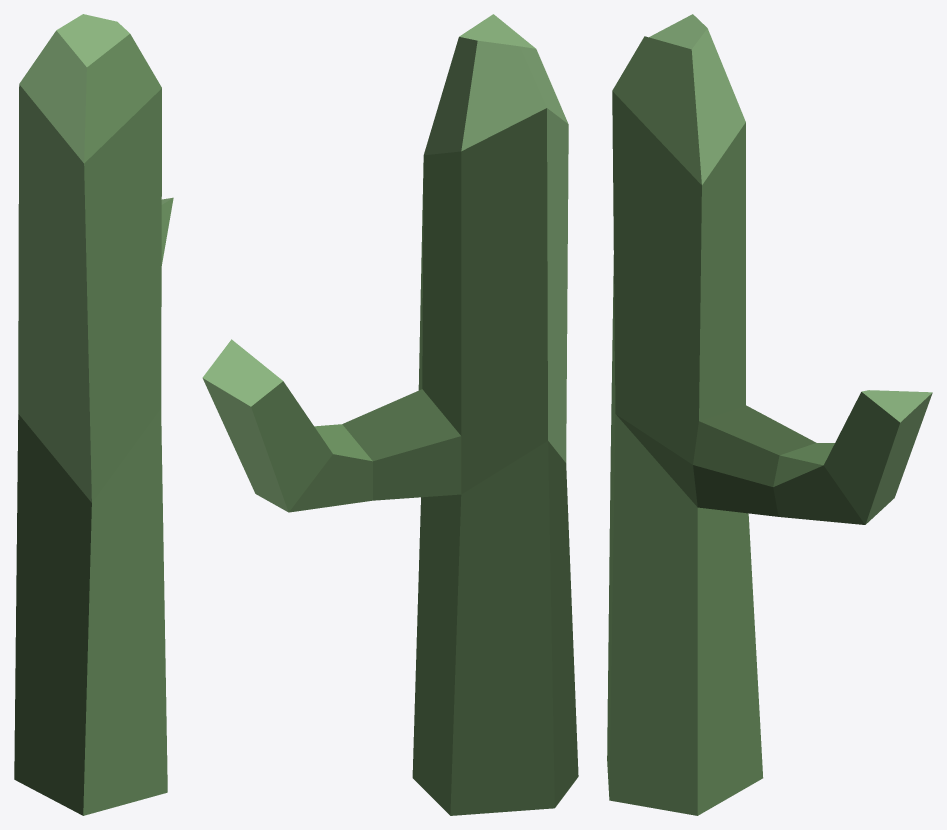
Rendered from cactus_b.dae.
The picture shows the model from 3 angles, left to right: view 1: azimuth 30°, elevation 25°; view 2: azimuth 150°, elevation 25°; view 3: azimuth 270°, elevation 25°; orthographic projection.
Visible parts, largest first — view 1: Cactus1; view 2: Cactus1; view 3: Cactus1.
Boxes of the visible parts, x1,y1,x2,y2 form: Cactus1: (14,14,173,815); Cactus1: (202,14,578,815); Cactus1: (607,14,932,815).
Bounding box in the file's own units: 0.5357 × 0.6037 × 1.55.
Materials: 1 (1 with a texture image).
